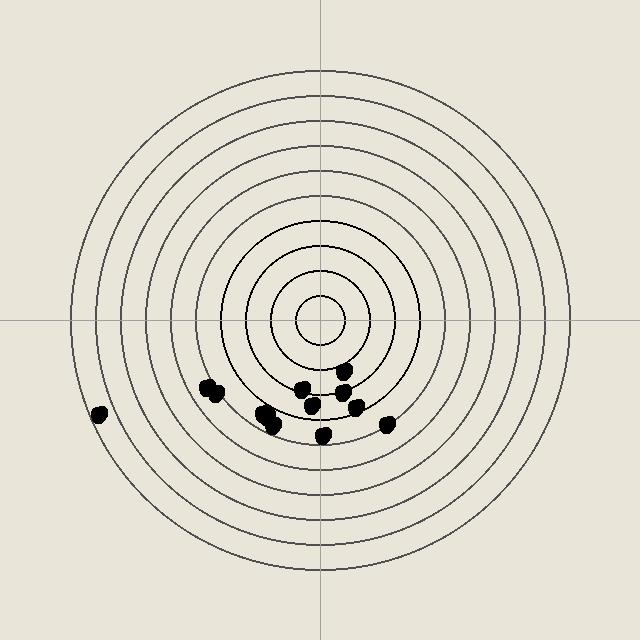horizontal_scatter: (262, 415, 282, 435), (301, 395, 321, 415), (376, 414, 396, 434), (196, 377, 216, 397), (332, 382, 352, 402), (312, 425, 332, 445), (205, 383, 225, 403), (256, 406, 276, 426), (291, 379, 311, 399), (345, 397, 365, 417), (252, 403, 272, 423), (88, 404, 108, 424), (333, 361, 353, 381)
